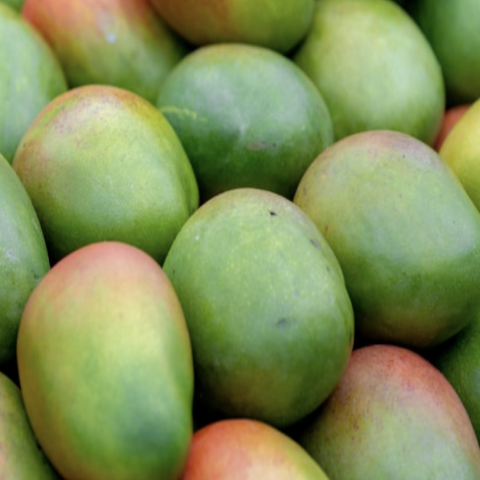mango: (144, 182, 367, 421), (1, 237, 214, 477), (291, 110, 479, 367), (146, 17, 343, 197)
